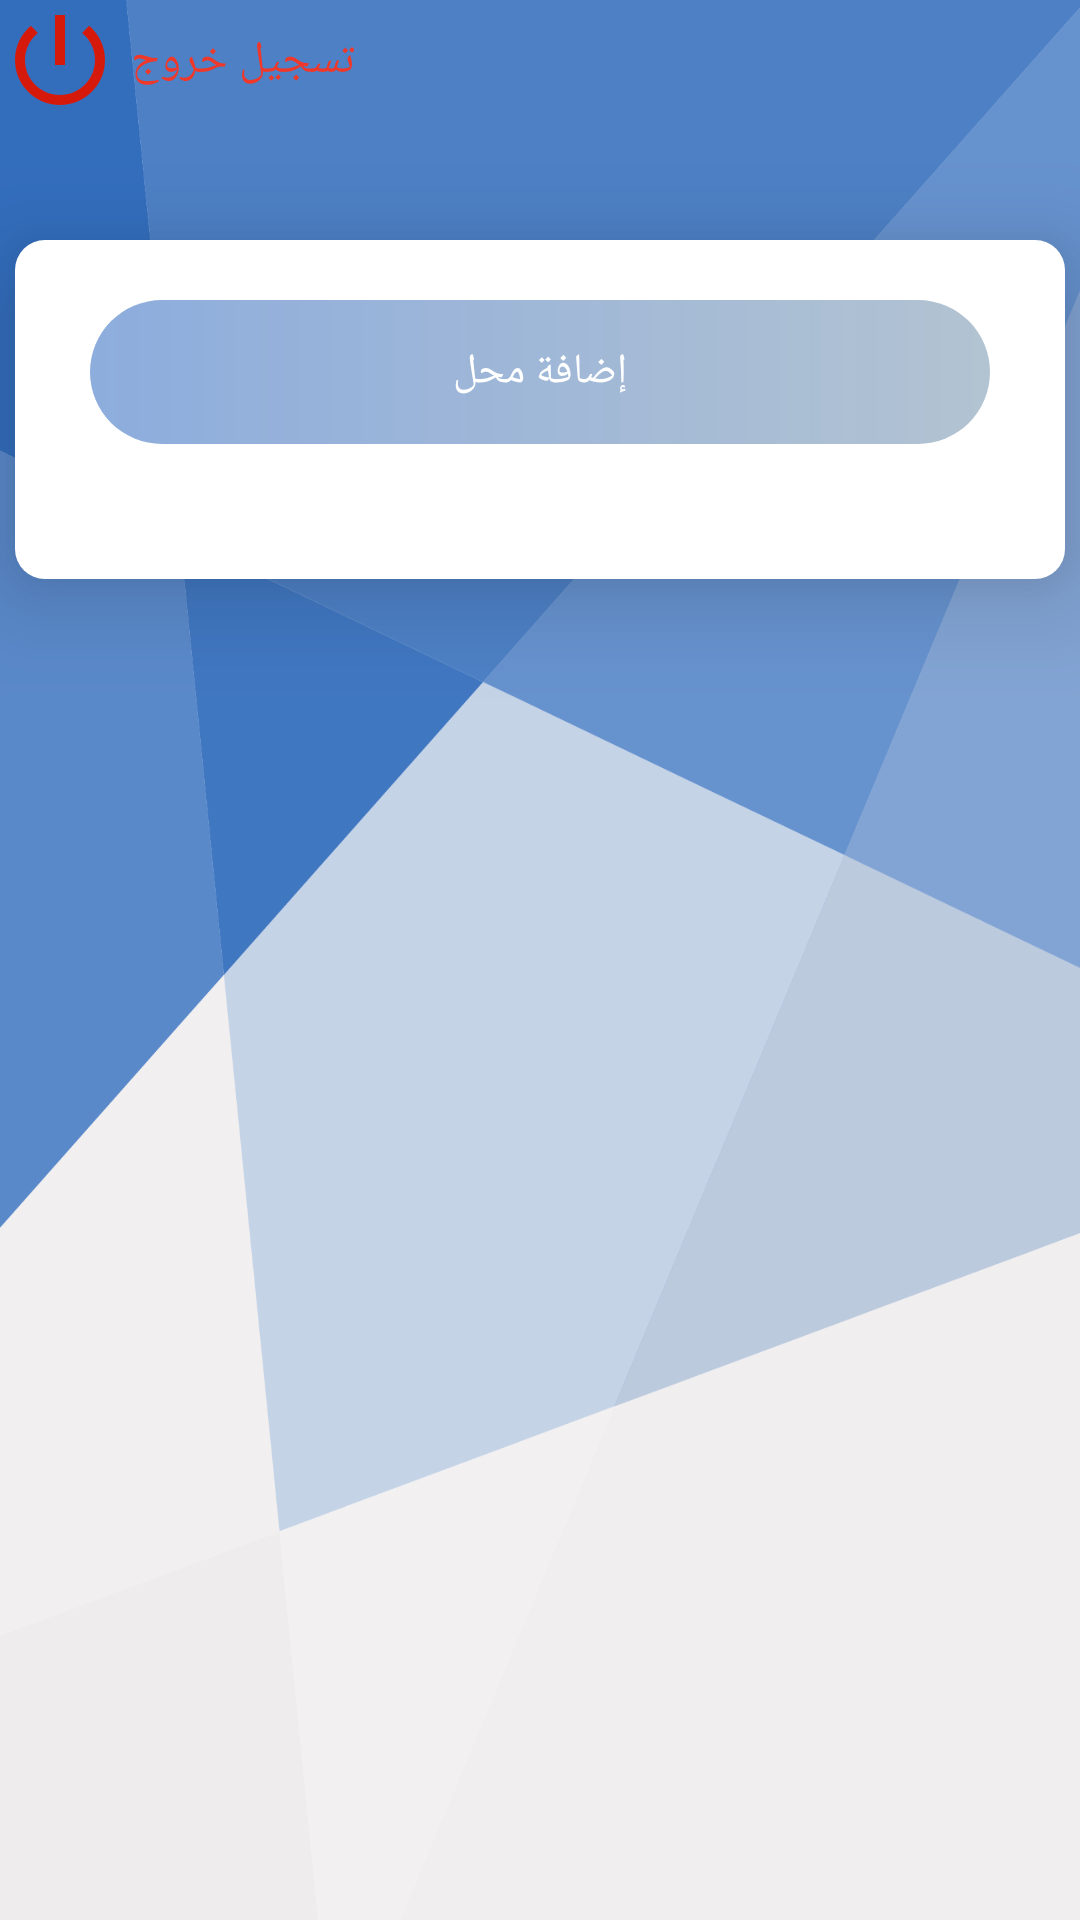

Icon bounding boxes for this 1080 x 1920 phone screenshot, format (x1, y1, x2, y2):
power: (15, 15, 105, 105)
